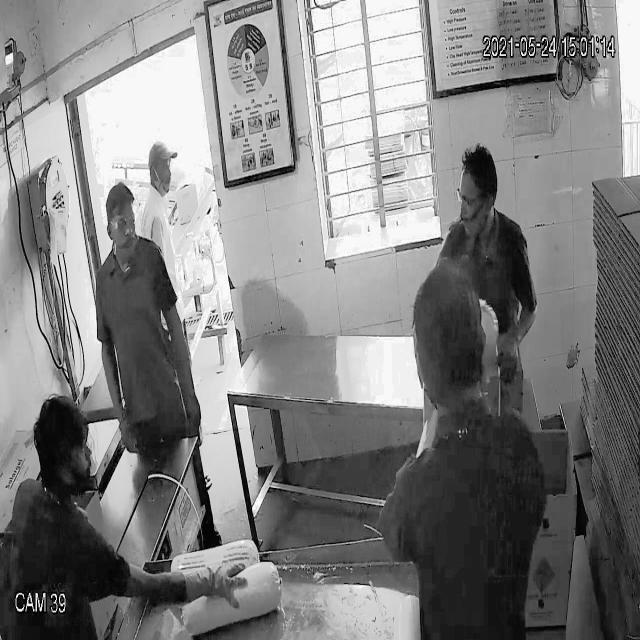glasses: (102, 212, 138, 238)
